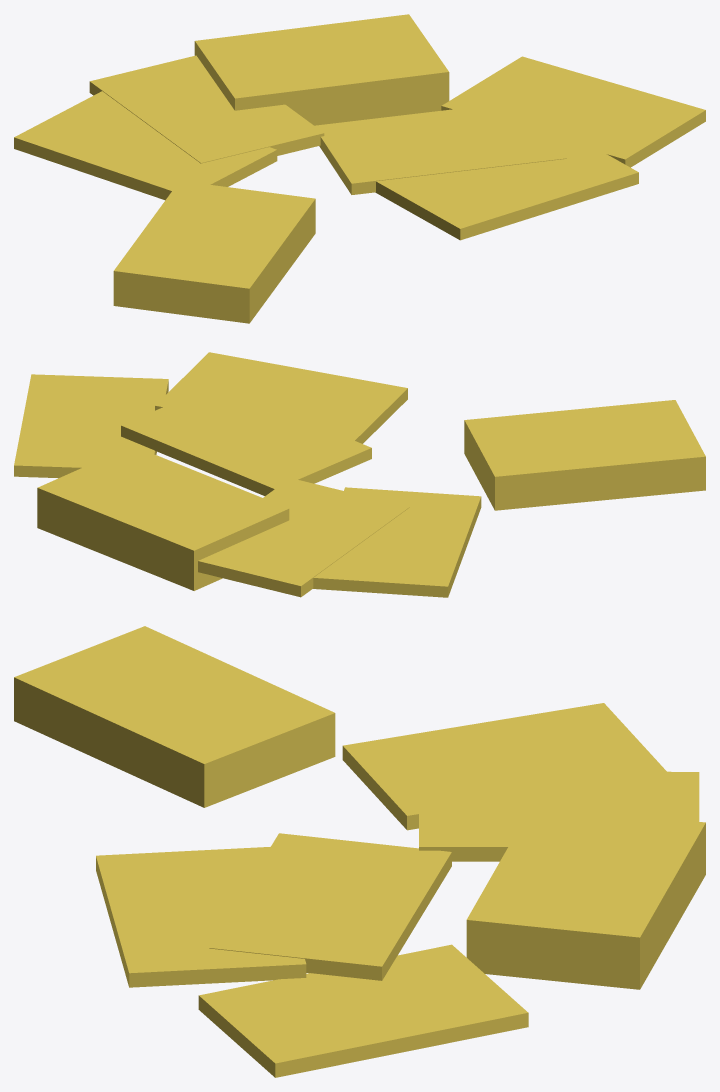
Rendered from papel1.glb.
3 renders of one model, top to bottom at view 1: azimuth 30°, elevation 25°; view 2: azimuth 150°, elevation 25°; view 3: azimuth 270°, elevation 25°, orthographic. The views are drawn at different scales.
Parts seen in each view (by area): view 1: Mesa.006; view 2: Mesa.006; view 3: Mesa.006.
Boxes of the visible parts, x1,y1,x2,y2 form: Mesa.006: (14, 14, 705, 323); Mesa.006: (14, 352, 705, 597); Mesa.006: (14, 626, 705, 1077).
Size of the model in its own units: 0.9172 by 0.0674 by 0.68.
